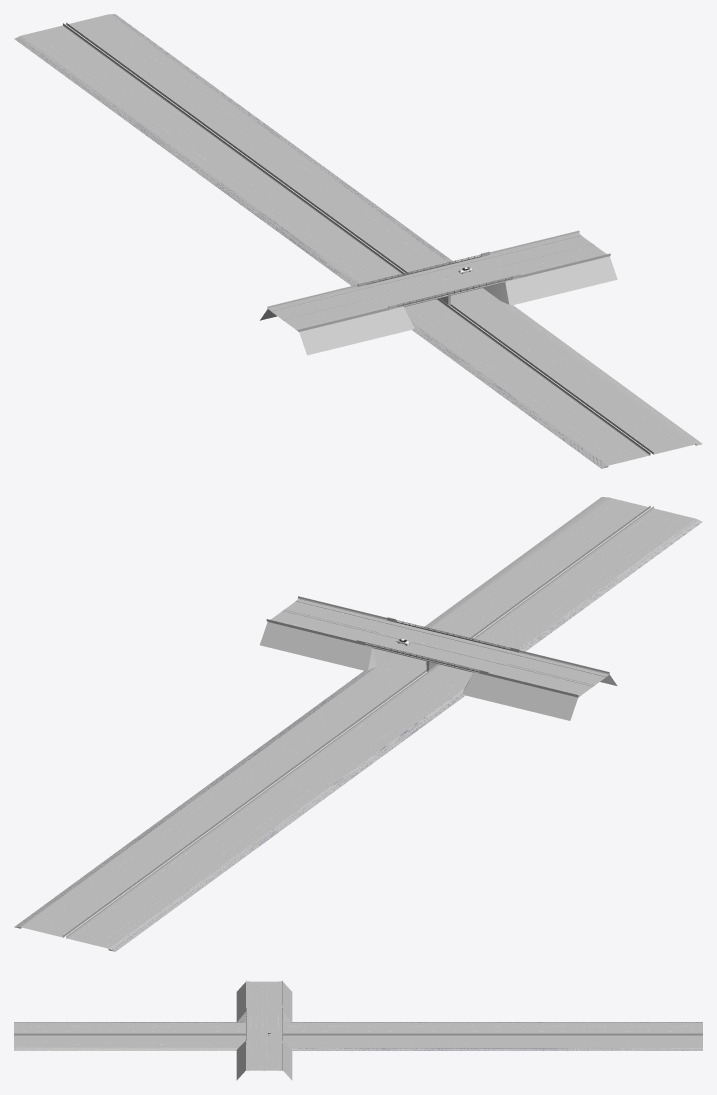
3 views of the same model, one above another, from view 1: azimuth 30°, elevation 25°; view 2: azimuth 150°, elevation 25°; view 3: azimuth 270°, elevation 25° (orthographic). The views are drawn at different scales.
Parts seen in each view (by area): view 1: Autoroute_Simple___Pont (×13); view 2: Autoroute_Simple___Pont (×13); view 3: Autoroute_Simple___Pont (×13).
Boxes of the visible parts, x1,y1,x2,y2 form: Autoroute_Simple___Pont (×13): [14, 14, 702, 468]; Autoroute_Simple___Pont (×13): [14, 497, 702, 951]; Autoroute_Simple___Pont (×13): [14, 981, 702, 1080].
Size of the model in its own units: 5015 by 16379 by 329.
